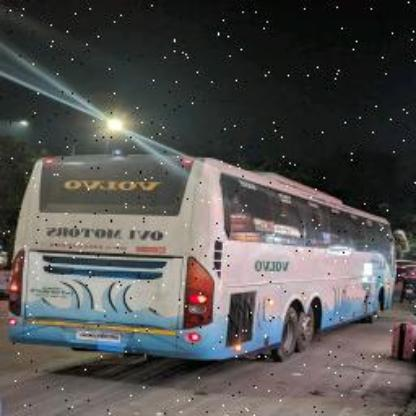bus: (0, 148, 404, 370)
